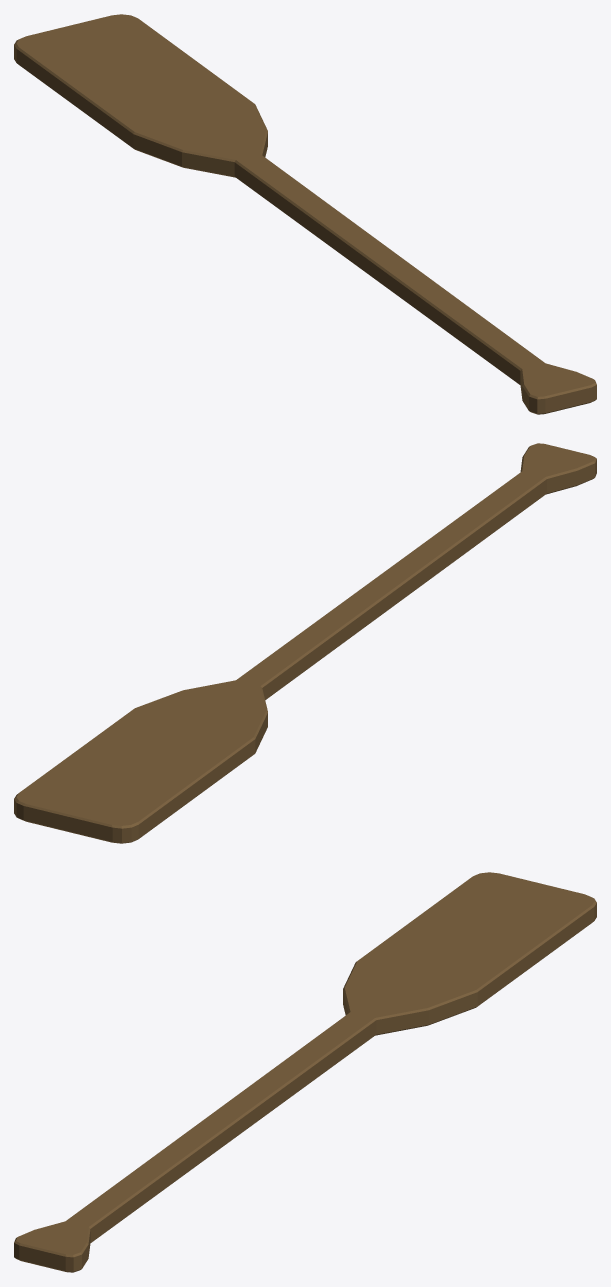
The model's file is paddle LOD0.fbx.
The picture shows the model from 3 angles, top to bottom: view 1: azimuth 30°, elevation 25°; view 2: azimuth 150°, elevation 25°; view 3: azimuth 330°, elevation 25°; orthographic projection.
Visible parts, largest first — view 1: Весло LOD0; view 2: Весло LOD0; view 3: Весло LOD0.
Part boxes in pixels (bbox=[...]): Весло LOD0: bbox=[14, 14, 596, 414]; Весло LOD0: bbox=[14, 443, 596, 843]; Весло LOD0: bbox=[14, 872, 596, 1272].
Size of the model in its own units: 166 by 23 by 1177.
